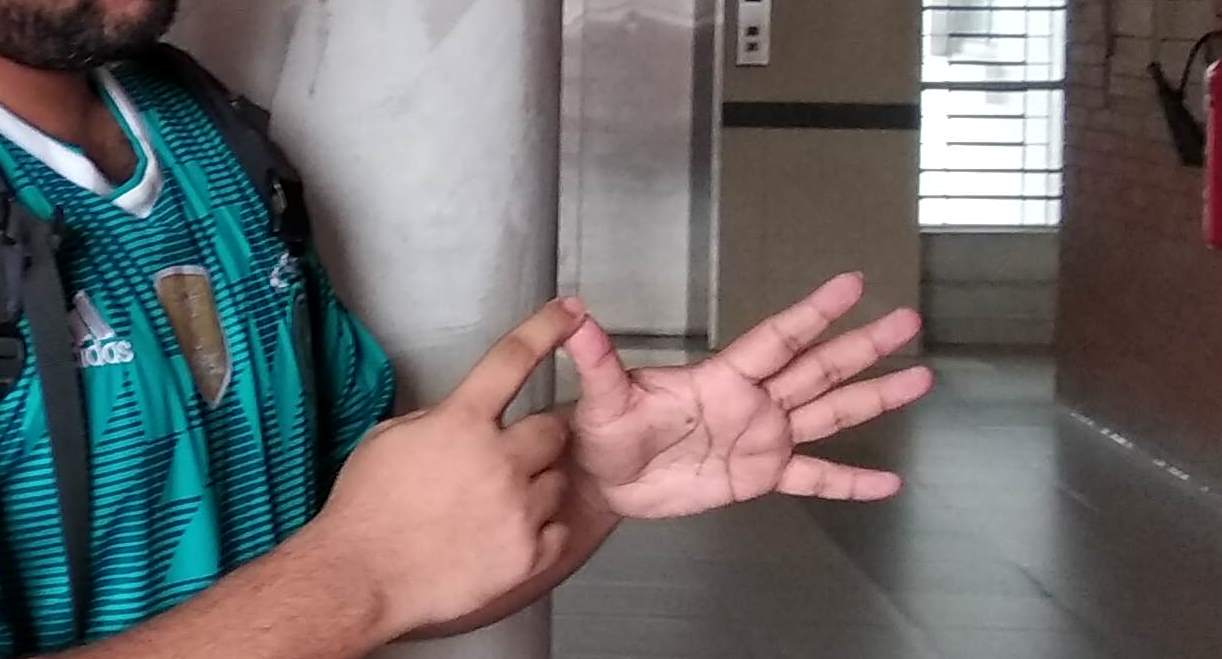a: (433, 291, 934, 562)
